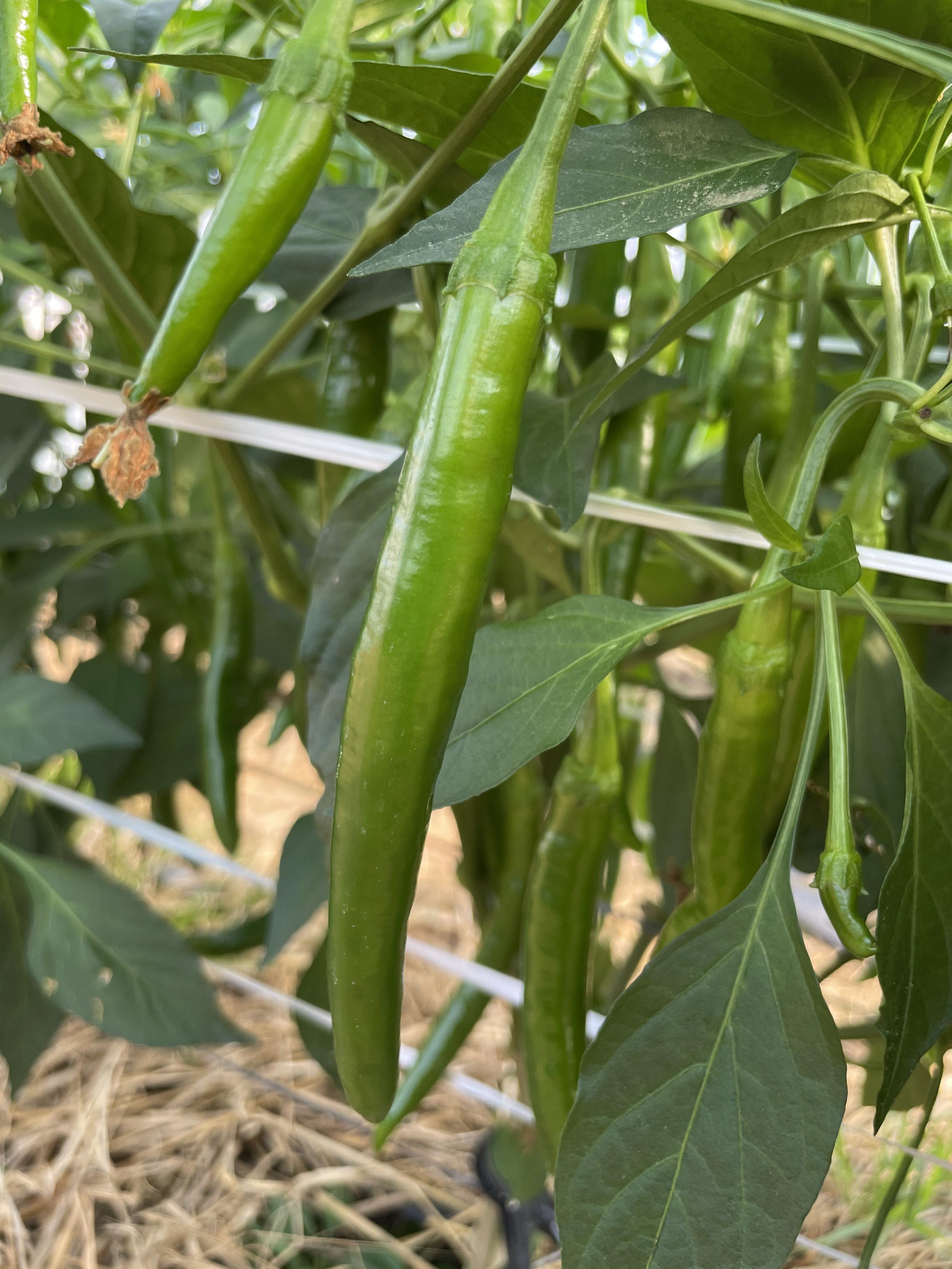Buah Cabai Sehat: (320, 179, 567, 1126)
Daun Cabai Sehat: (551, 835, 857, 1269)
